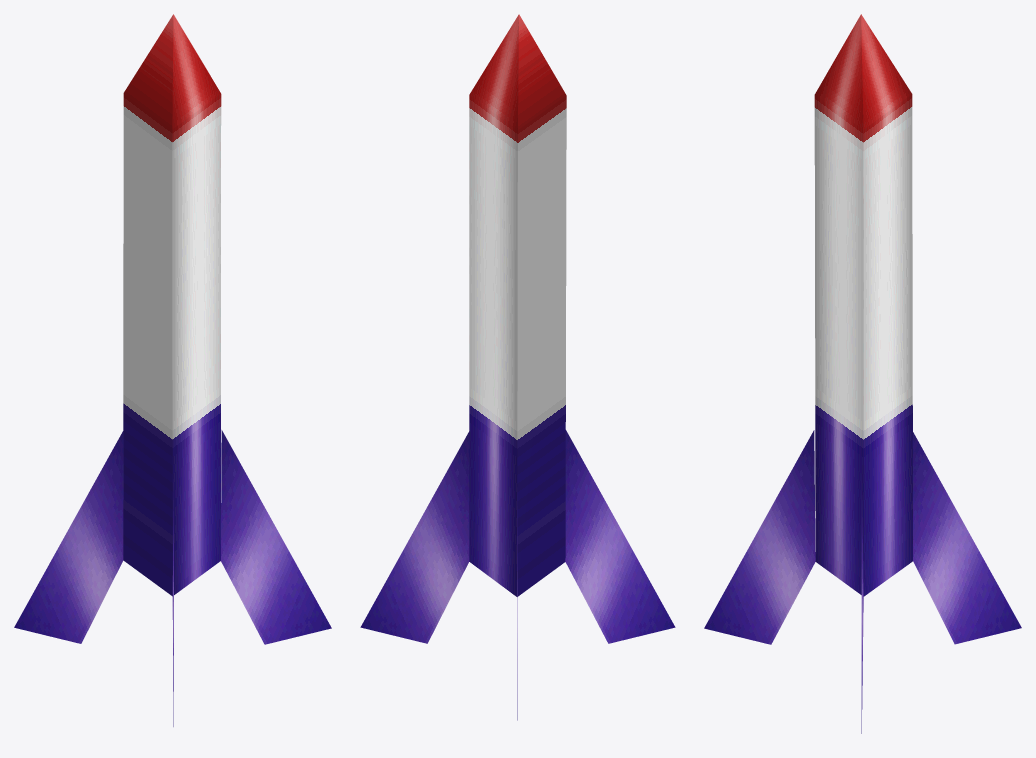
File: rocket.glb
3 renders of one model, left to right at view 1: azimuth 30°, elevation 25°; view 2: azimuth 150°, elevation 25°; view 3: azimuth 270°, elevation 25°, orthographic.
Parts seen in each view (by area): view 1: rocket; view 2: rocket; view 3: rocket.
Boxes of the visible parts, box(x1,y1,x2,y2) form: rocket: box(14, 14, 331, 726); rocket: box(360, 14, 675, 720); rocket: box(704, 14, 1021, 733).
Bounding box in the file's own units: 35.39 × 92.95 × 41.05.
Materials: 1 (1 with a texture image).
